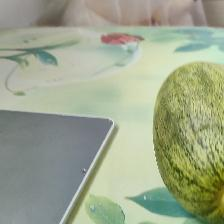gua: (161, 67, 220, 206)
